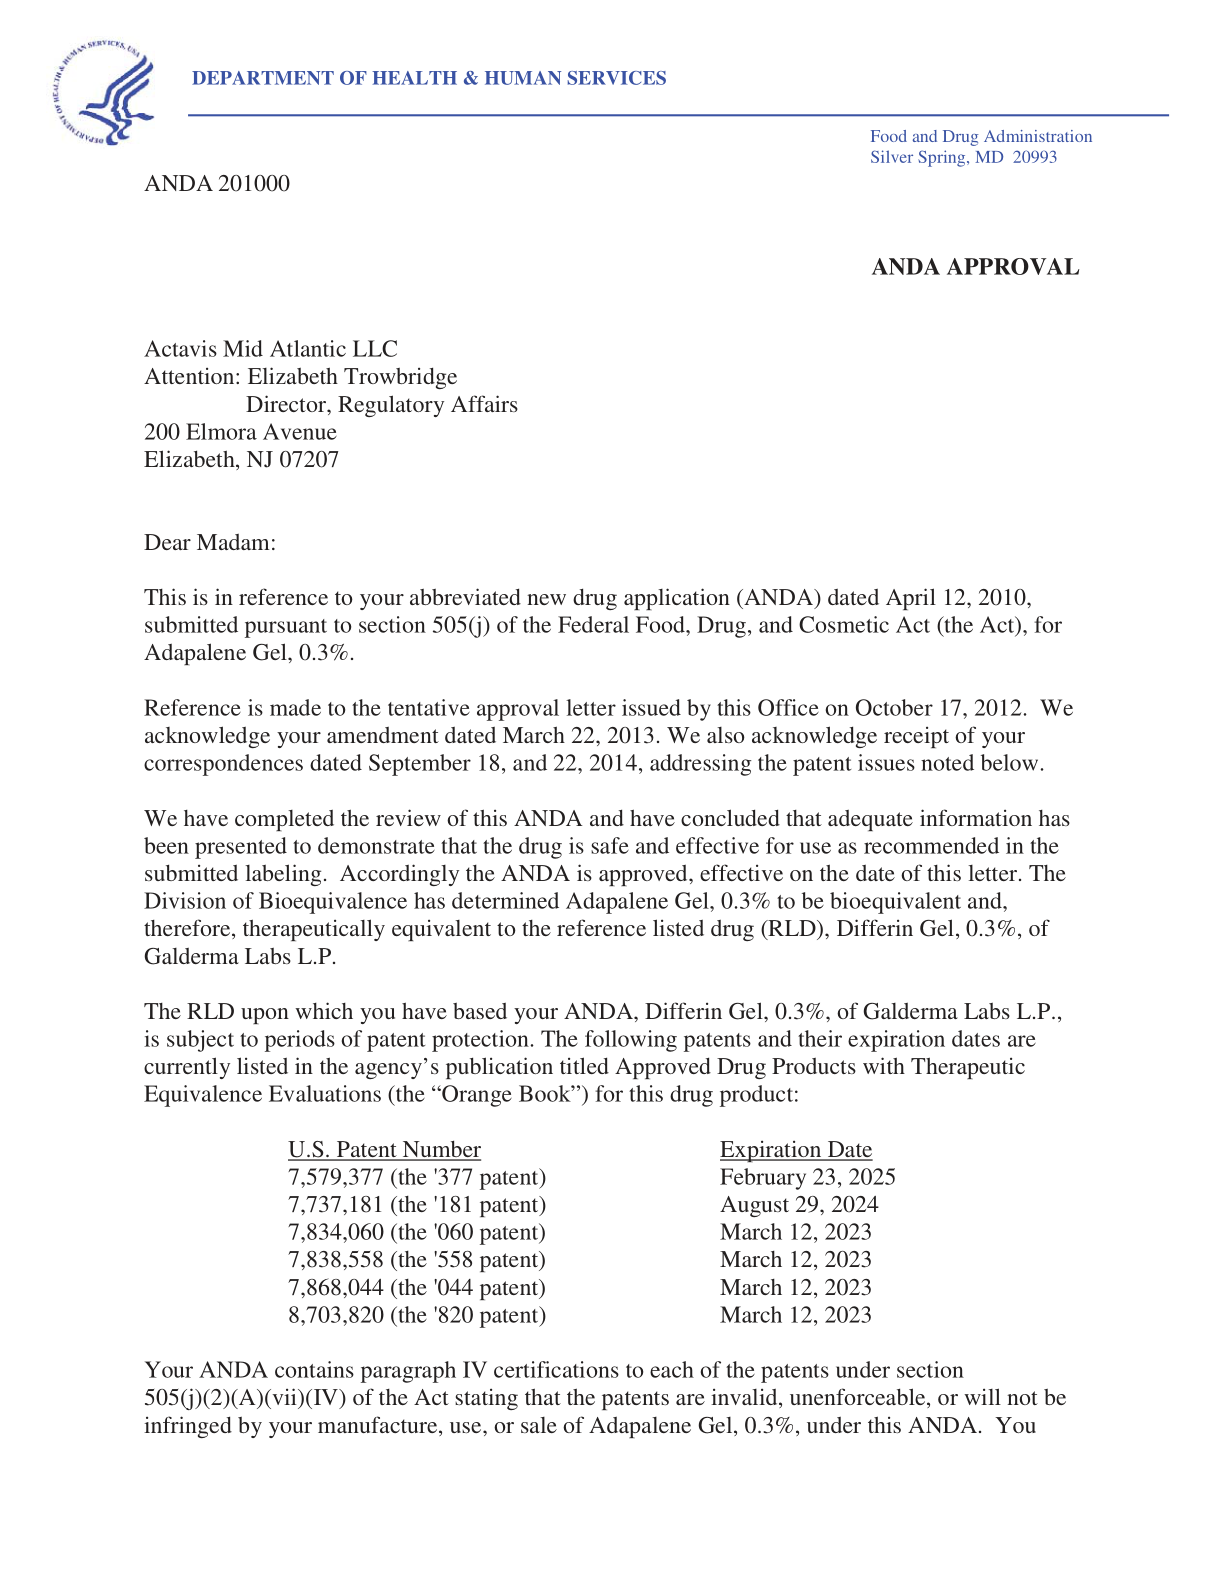nolines: (283, 1137, 900, 1327)
